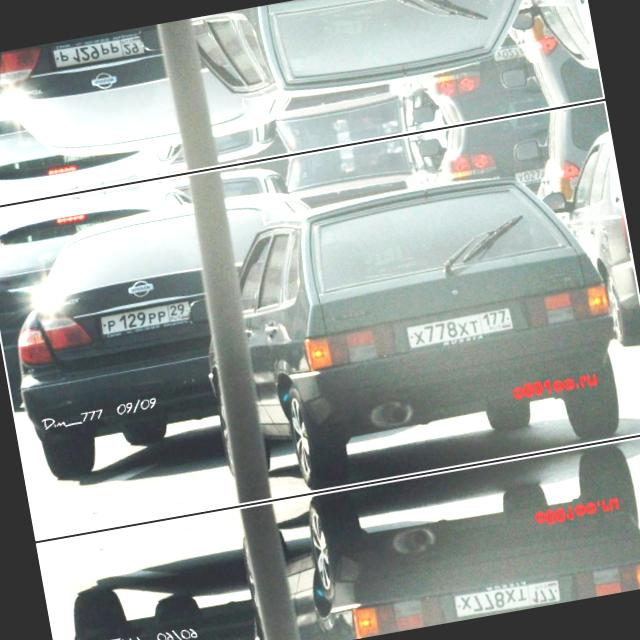citizen: (400, 300, 520, 355), (448, 569, 566, 621), (94, 290, 198, 342), (47, 26, 150, 76)
